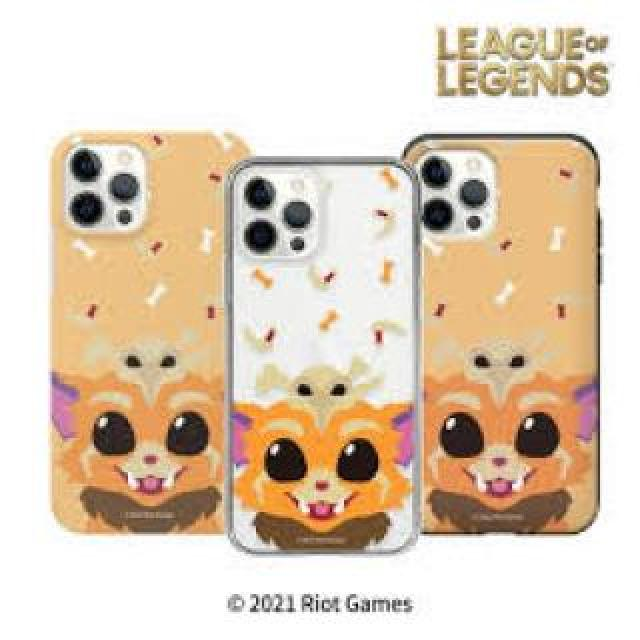smart phone: (230, 148, 430, 565), (43, 110, 215, 563), (434, 122, 604, 535)
